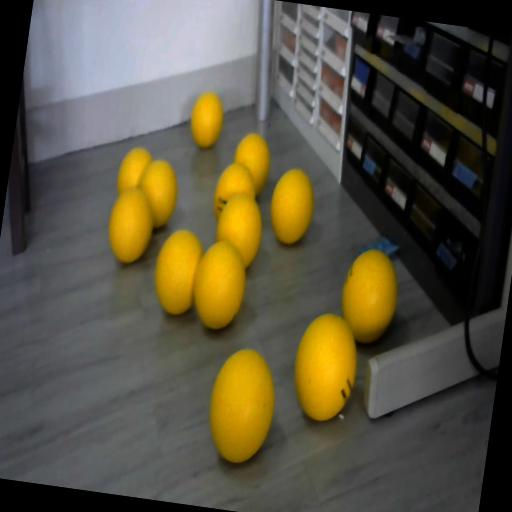FUEL: (202, 342, 282, 466), (287, 308, 364, 423), (336, 246, 404, 346), (148, 226, 206, 317), (210, 190, 268, 270), (264, 166, 318, 247), (104, 186, 158, 266), (229, 130, 275, 196), (187, 90, 226, 150), (115, 144, 154, 200)
